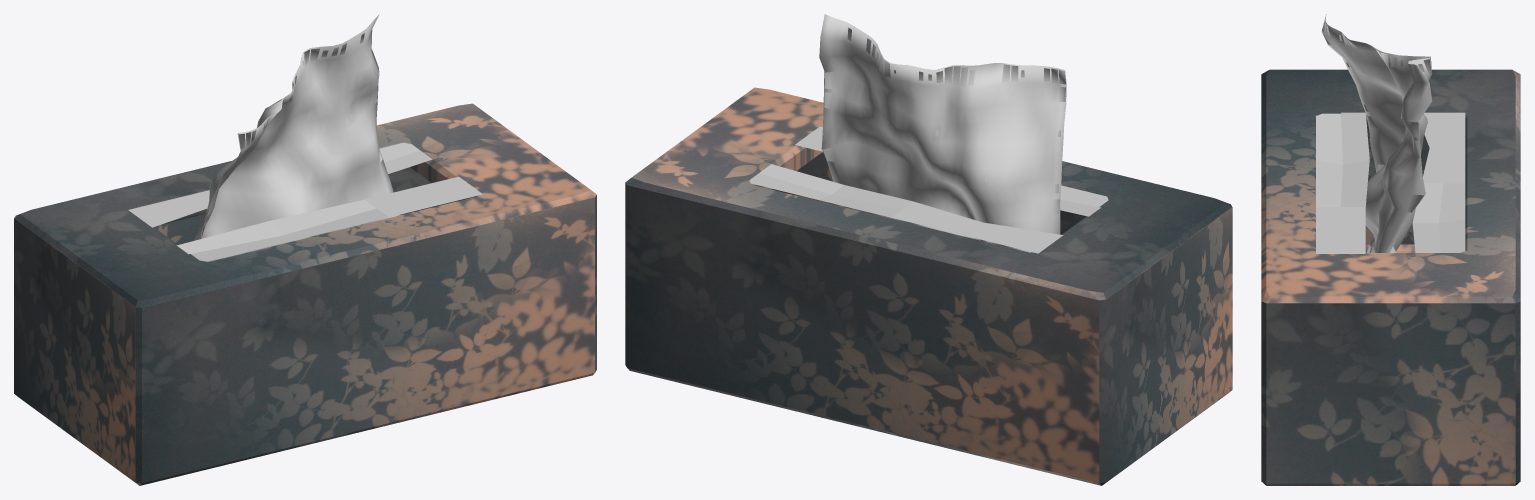
The model's file is House1_TissueBox1.fbx.
3 renders of one model, left to right at view 1: azimuth 30°, elevation 25°; view 2: azimuth 150°, elevation 25°; view 3: azimuth 270°, elevation 25°, orthographic. The views are drawn at different scales.
Parts seen in each view (by area): view 1: House1TissueBox1_Box, House1TissueBox_Tissue, House1TissueBox1_Box2; view 2: House1TissueBox1_Box, House1TissueBox_Tissue, House1TissueBox1_Box2; view 3: House1TissueBox1_Box, House1TissueBox1_Box2, House1TissueBox_Tissue.
Part boxes in pixels (x1,y1,x2,y2): House1TissueBox1_Box: (14,103,596,485); House1TissueBox_Tissue: (194,14,400,261); House1TissueBox1_Box2: (128,142,482,261); House1TissueBox1_Box: (625,87,1232,485); House1TissueBox_Tissue: (819,14,1066,252); House1TissueBox1_Box2: (749,126,1108,253); House1TissueBox1_Box: (1261,69,1520,485); House1TissueBox1_Box2: (1316,112,1465,253); House1TissueBox_Tissue: (1321,14,1432,252).
Size of the model in its own units: 1.98 by 1.4 by 0.9376.
